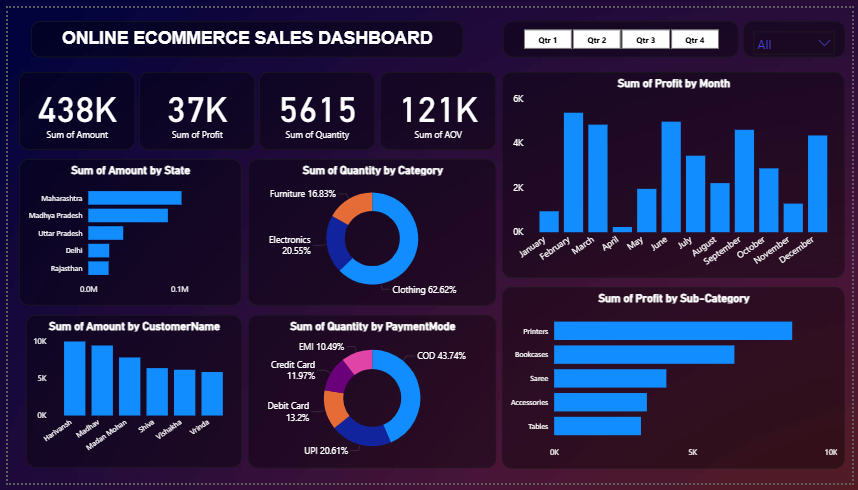

What the dashboard file says about the page in this screenshot:
{"tool":"powerbi","page":{"name":"Sells_dashboard","canvas":[1280,720],"ordinal":0},"visuals":[{"type":"textbox","box":[34.3,19.4,655.2,55.2],"z":0},{"type":"columnChart","fields":{"Category":["Orders.Order Date.Variation.Date Hierarchy.Month"],"Y":["Sum(Details.Profit)"]},"box":[748.5,97.1,519.1,311.8],"z":1000},{"type":"barChart","fields":{"Category":["Details.Sub-Category"],"Y":["Sum(Details.Profit)"]},"box":[748.5,422.1,519.1,275],"z":2000},{"type":"donutChart","fields":{"Category":["Details.Category"],"Y":["Sum(Details.Quantity)"]},"box":[363.2,229.4,376.5,222.1],"z":3000},{"type":"donutChart","fields":{"Category":["Details.PaymentMode"],"Y":["Sum(Details.Quantity)"]},"box":[363.2,464.7,376.5,232.4],"z":4000},{"type":"card","fields":{"Values":["Sum(Details.Amount)"]},"box":[16.2,97.1,176.5,117.6],"z":5000},{"type":"card","fields":{"Values":["Sum(Details.Profit)"]},"box":[198.5,97.1,176.5,117.6],"z":6000},{"type":"card","fields":{"Values":["Sum(Details.AOV)"]},"box":[563.2,97.1,176.5,117.6],"z":7000},{"type":"card","fields":{"Values":["Sum(Details.Quantity)"]},"box":[380.9,97.1,176.5,117.6],"z":8000},{"type":"barChart","fields":{"Category":["Orders.State"],"Y":["Sum(Details.Amount)"]},"box":[16.2,229.4,336.8,222.1],"z":9000},{"type":"columnChart","fields":{"Category":["Orders.CustomerName"],"Y":["Sum(Details.Amount)"]},"box":[26.9,465.7,326.9,231.3],"z":10000},{"type":"slicer","fields":{"Values":["Orders.Order Date.Variation.Date Hierarchy.Quarter"]},"box":[749.3,19.4,356.7,55.2],"z":11000},{"type":"slicer","fields":{"Values":["Orders.State"]},"box":[1113.4,19.4,155.2,55.2],"z":12000}]}

Visuals, with their boxes in screenshot pixels (x1, y1, x2, y2), scaled from the page's 1280x720 canvas onto the 858x490 screenshot:
textbox: box(23, 13, 462, 51)
columnChart - Orders.Order Date.Variation.Date Hierarchy.Month x Sum(Details.Profit): box(502, 66, 850, 278)
barChart - Details.Sub-Category x Sum(Details.Profit): box(502, 287, 850, 474)
donutChart - Details.Category x Sum(Details.Quantity): box(243, 156, 496, 307)
donutChart - Details.PaymentMode x Sum(Details.Quantity): box(243, 316, 496, 474)
card - Sum(Details.Amount): box(11, 66, 129, 146)
card - Sum(Details.Profit): box(133, 66, 251, 146)
card - Sum(Details.AOV): box(378, 66, 496, 146)
card - Sum(Details.Quantity): box(255, 66, 374, 146)
barChart - Orders.State x Sum(Details.Amount): box(11, 156, 237, 307)
columnChart - Orders.CustomerName x Sum(Details.Amount): box(18, 317, 237, 474)
slicer - Orders.Order Date.Variation.Date Hierarchy.Quarter: box(502, 13, 741, 51)
slicer - Orders.State: box(746, 13, 850, 51)
